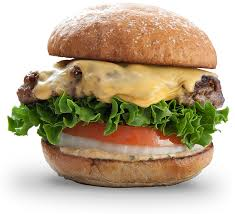hamburger: (5, 1, 234, 191)
